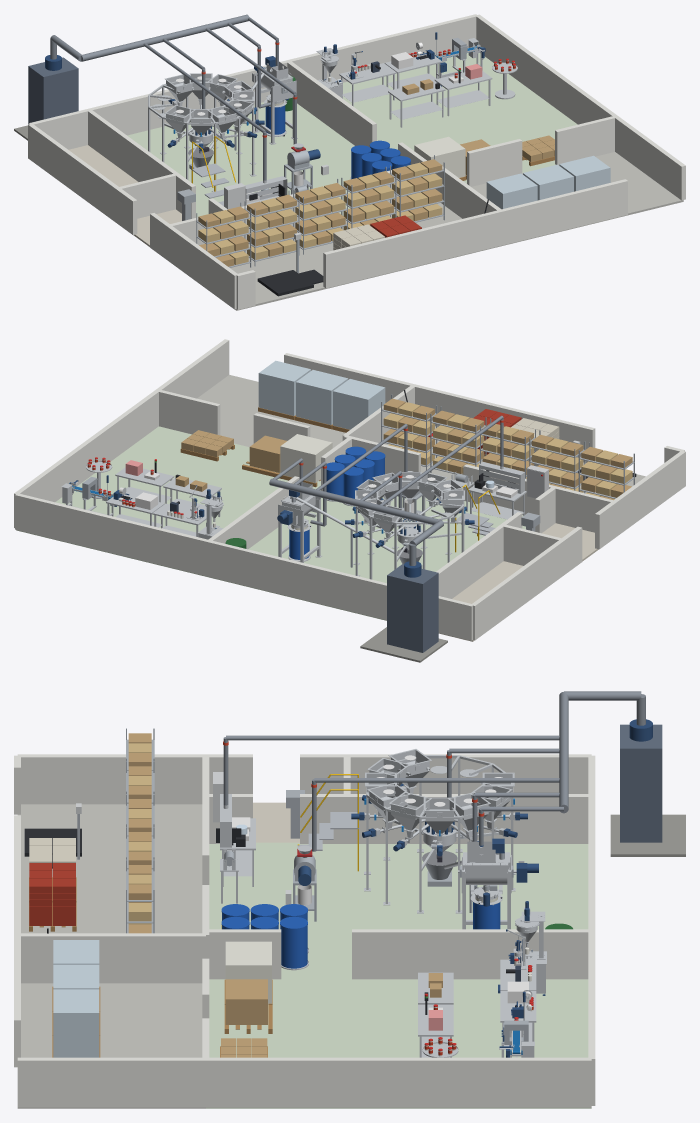
The model's file is DH-P1-plant.glb.
3 views of the same model, one above another, from view 1: azimuth 30°, elevation 25°; view 2: azimuth 150°, elevation 25°; view 3: azimuth 270°, elevation 25° (orthographic). The views are drawn at different scales.
Parts seen in each view (by area): view 1: wall#9, floor Pack room#6, floor Dosing & blending room#5, wall#10, wall#13, wall#12, wall#11, wall#20, wall#23, floor Receiving & ingredient storage#1, floor Finished goods & shipping#2, P1-310 cartridge housing#595 (+28 smaller); view 2: wall#10, floor Pack room#6, floor Dosing & blending room#5, wall#13, wall#12, wall#9, wall#11, floor Finished goods & shipping#2, wall#20, wall#14, P1-310 cartridge housing#595, wall#17 (+27 smaller); view 3: wall#13, floor Dosing & blending room#5, floor Pack room#6, floor Receiving & ingredient storage#1, floor Finished goods & shipping#2, wall#23, wall#11, wall#18, wall#20, wall#12, wrapped cases#247, P1-210 ring frame#248 (+34 smaller).
Boxes of the visible parts, <box> form: wall#9: <box>323,179,627,288</box>; floor Pack room#6: <box>343,53,577,183</box>; floor Dosing & blending room#5: <box>127,102,354,217</box>; wall#10: <box>29,14,477,149</box>; wall#13: <box>476,14,685,200</box>; wall#12: <box>28,123,137,234</box>; wall#11: <box>150,213,237,309</box>; wall#20: <box>87,109,195,218</box>; wall#23: <box>287,61,376,147</box>; floor Receiving & ingredient storage#1: <box>230,203,500,310</box>; floor Finished goods & shipping#2: <box>471,152,683,246</box>; P1-310 cartridge housing#595: <box>28,57,78,116</box>; wall#10: <box>15,494,472,640</box>; floor Pack room#6: <box>16,426,320,577</box>; floor Dosing & blending room#5: <box>209,496,525,620</box>; wall#13: <box>14,339,229,527</box>; wall#12: <box>472,526,582,640</box>; wall#9: <box>284,353,595,462</box>; wall#11: <box>595,451,685,549</box>; floor Finished goods & shipping#2: <box>197,375,345,447</box>; wall#20: <box>436,512,522,598</box>; wall#14: <box>463,464,612,532</box>; P1-310 cartridge housing#595: <box>387,564,438,624</box>; wall#17: <box>158,390,220,435</box>; wall#13: <box>17,1057,591,1107</box>; floor Dosing & blending room#5: <box>209,842,588,977</box>; floor Pack room#6: <box>206,978,591,1108</box>; floor Receiving & ingredient storage#1: <box>18,804,202,933</box>; floor Finished goods & shipping#2: <box>17,983,205,1108</box>; wall#23: <box>352,929,588,979</box>; wall#11: <box>17,754,252,804</box>; wall#18: <box>17,933,205,983</box>; wall#20: <box>300,794,591,843</box>; wall#12: <box>300,754,591,793</box>; wrapped cases#247: <box>53,989,99,1057</box>; P1-210 ring frame#248: <box>364,755,515,913</box>.
Bounding box in the file's own units: 15390 × 3310 × 14267.
